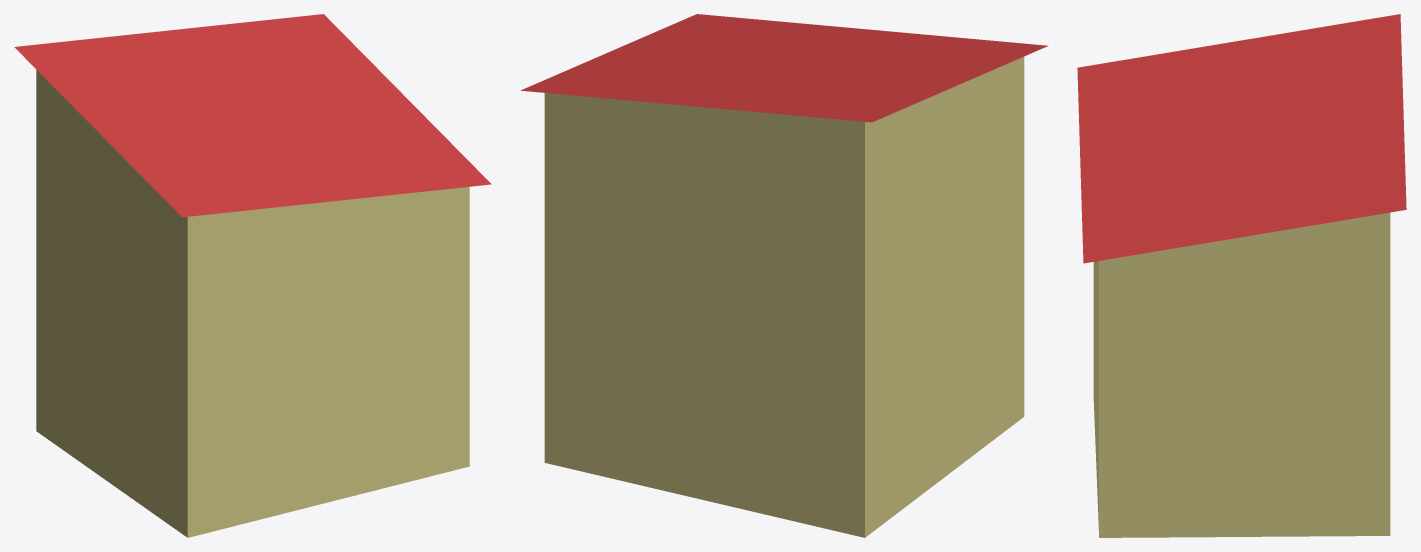
3 views of the same model, side by side, from view 1: azimuth 30°, elevation 25°; view 2: azimuth 150°, elevation 25°; view 3: azimuth 270°, elevation 25° (orthographic). The views are drawn at different scales.
Bounding box in the file's own units: 5.66 × 5.14 × 6.5.
